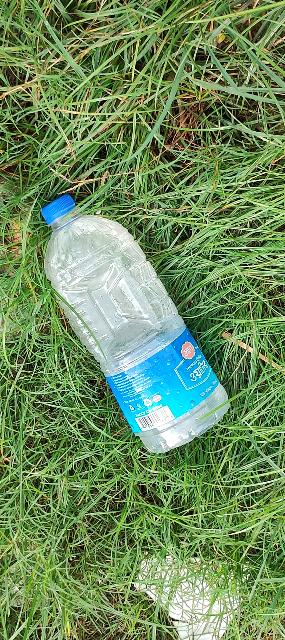bottle: (10, 182, 246, 468)
